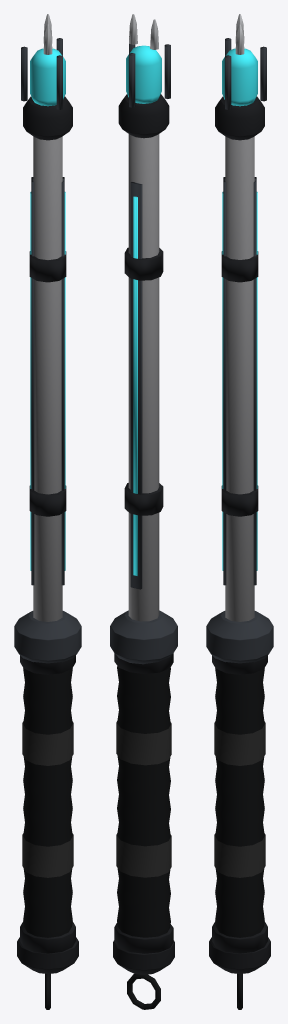
File: gear_neon_baton.glb
3 renders of one model, left to right at view 1: azimuth 90°, elevation 25°; view 2: azimuth 150°, elevation 25°; view 3: azimuth 270°, elevation 25°, orthographic.
Parts seen in each view (by area): view 1: gear_neon_baton; view 2: gear_neon_baton; view 3: gear_neon_baton.
Part boxes in pixels (x1,y1,x2,y2): gear_neon_baton: (14, 14, 81, 1009); gear_neon_baton: (110, 14, 177, 1009); gear_neon_baton: (206, 14, 273, 1009).
Bounding box in the file's own units: 0.047 × 0.7598 × 0.047.
